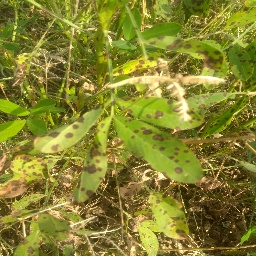GroundNut_Leaf: (112, 130, 207, 186), (34, 104, 91, 153), (112, 99, 207, 127), (146, 192, 192, 244), (70, 156, 109, 205), (103, 56, 158, 80), (226, 39, 255, 82), (36, 211, 70, 245), (6, 157, 46, 182), (138, 20, 184, 40), (223, 8, 256, 32), (1, 118, 27, 144), (1, 94, 31, 116)
